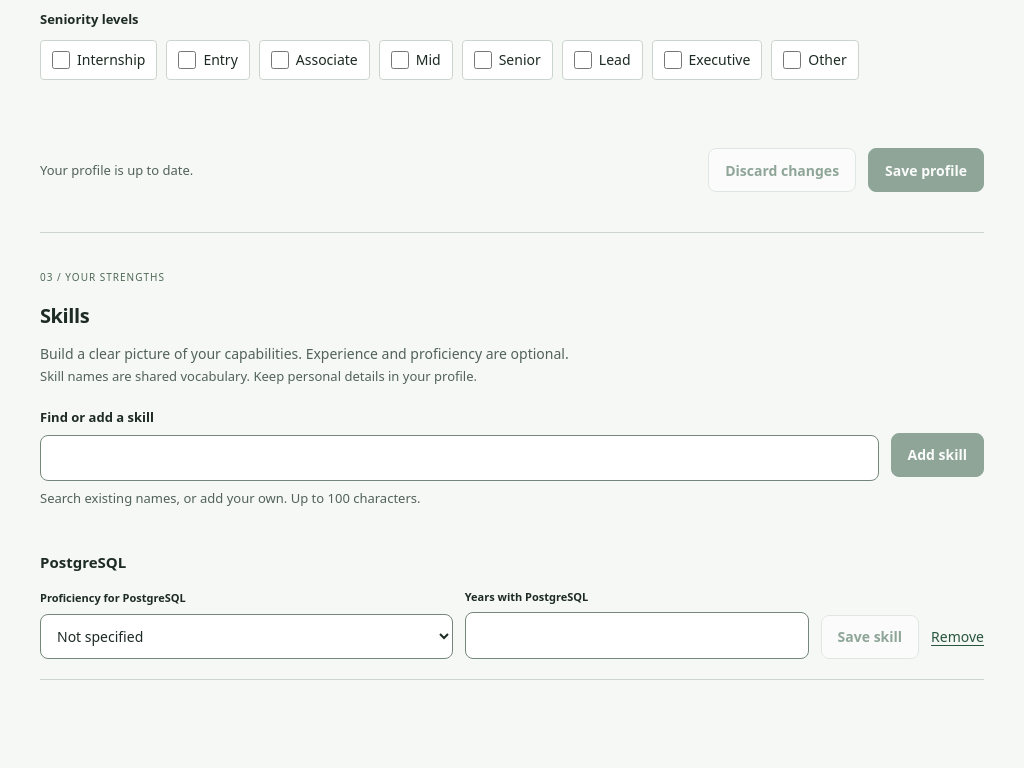
Test: does not remove a skill when the server rejects the deletion
The width and height of the screenshot is (1024, 768).
(page scrolled)
Click the button with aria-label "Remove PostgreSQL": coordinates (958, 638) [931,616,984,659]
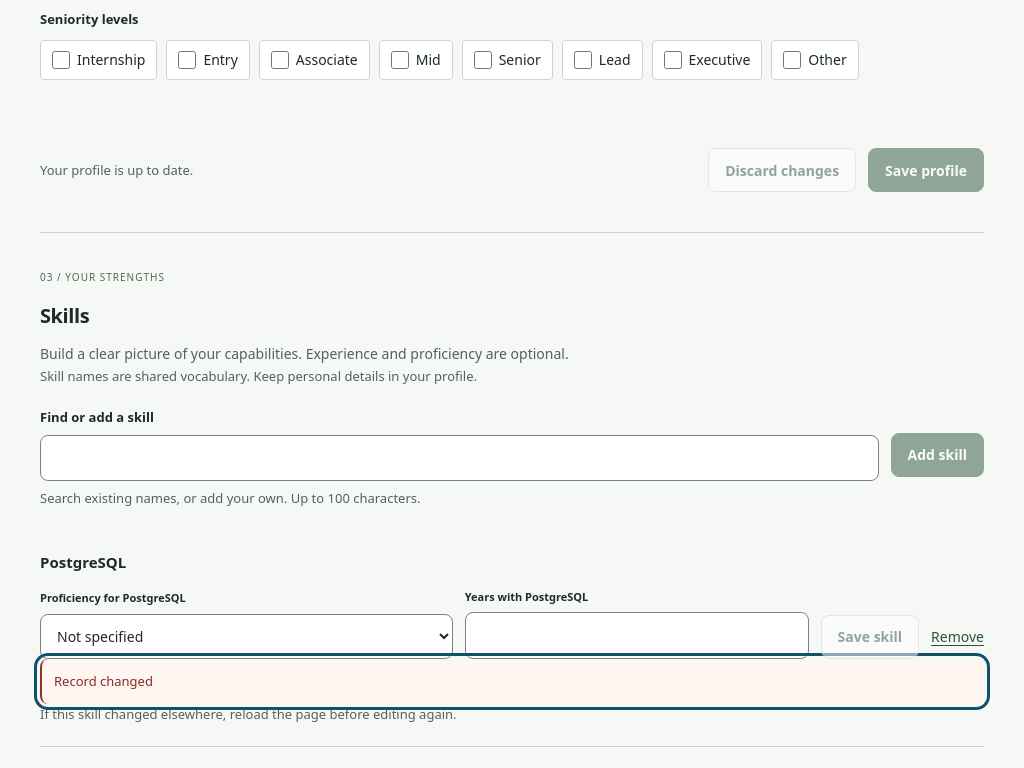
expect the message reads "Record changed": met, box [54,672,153,690]
